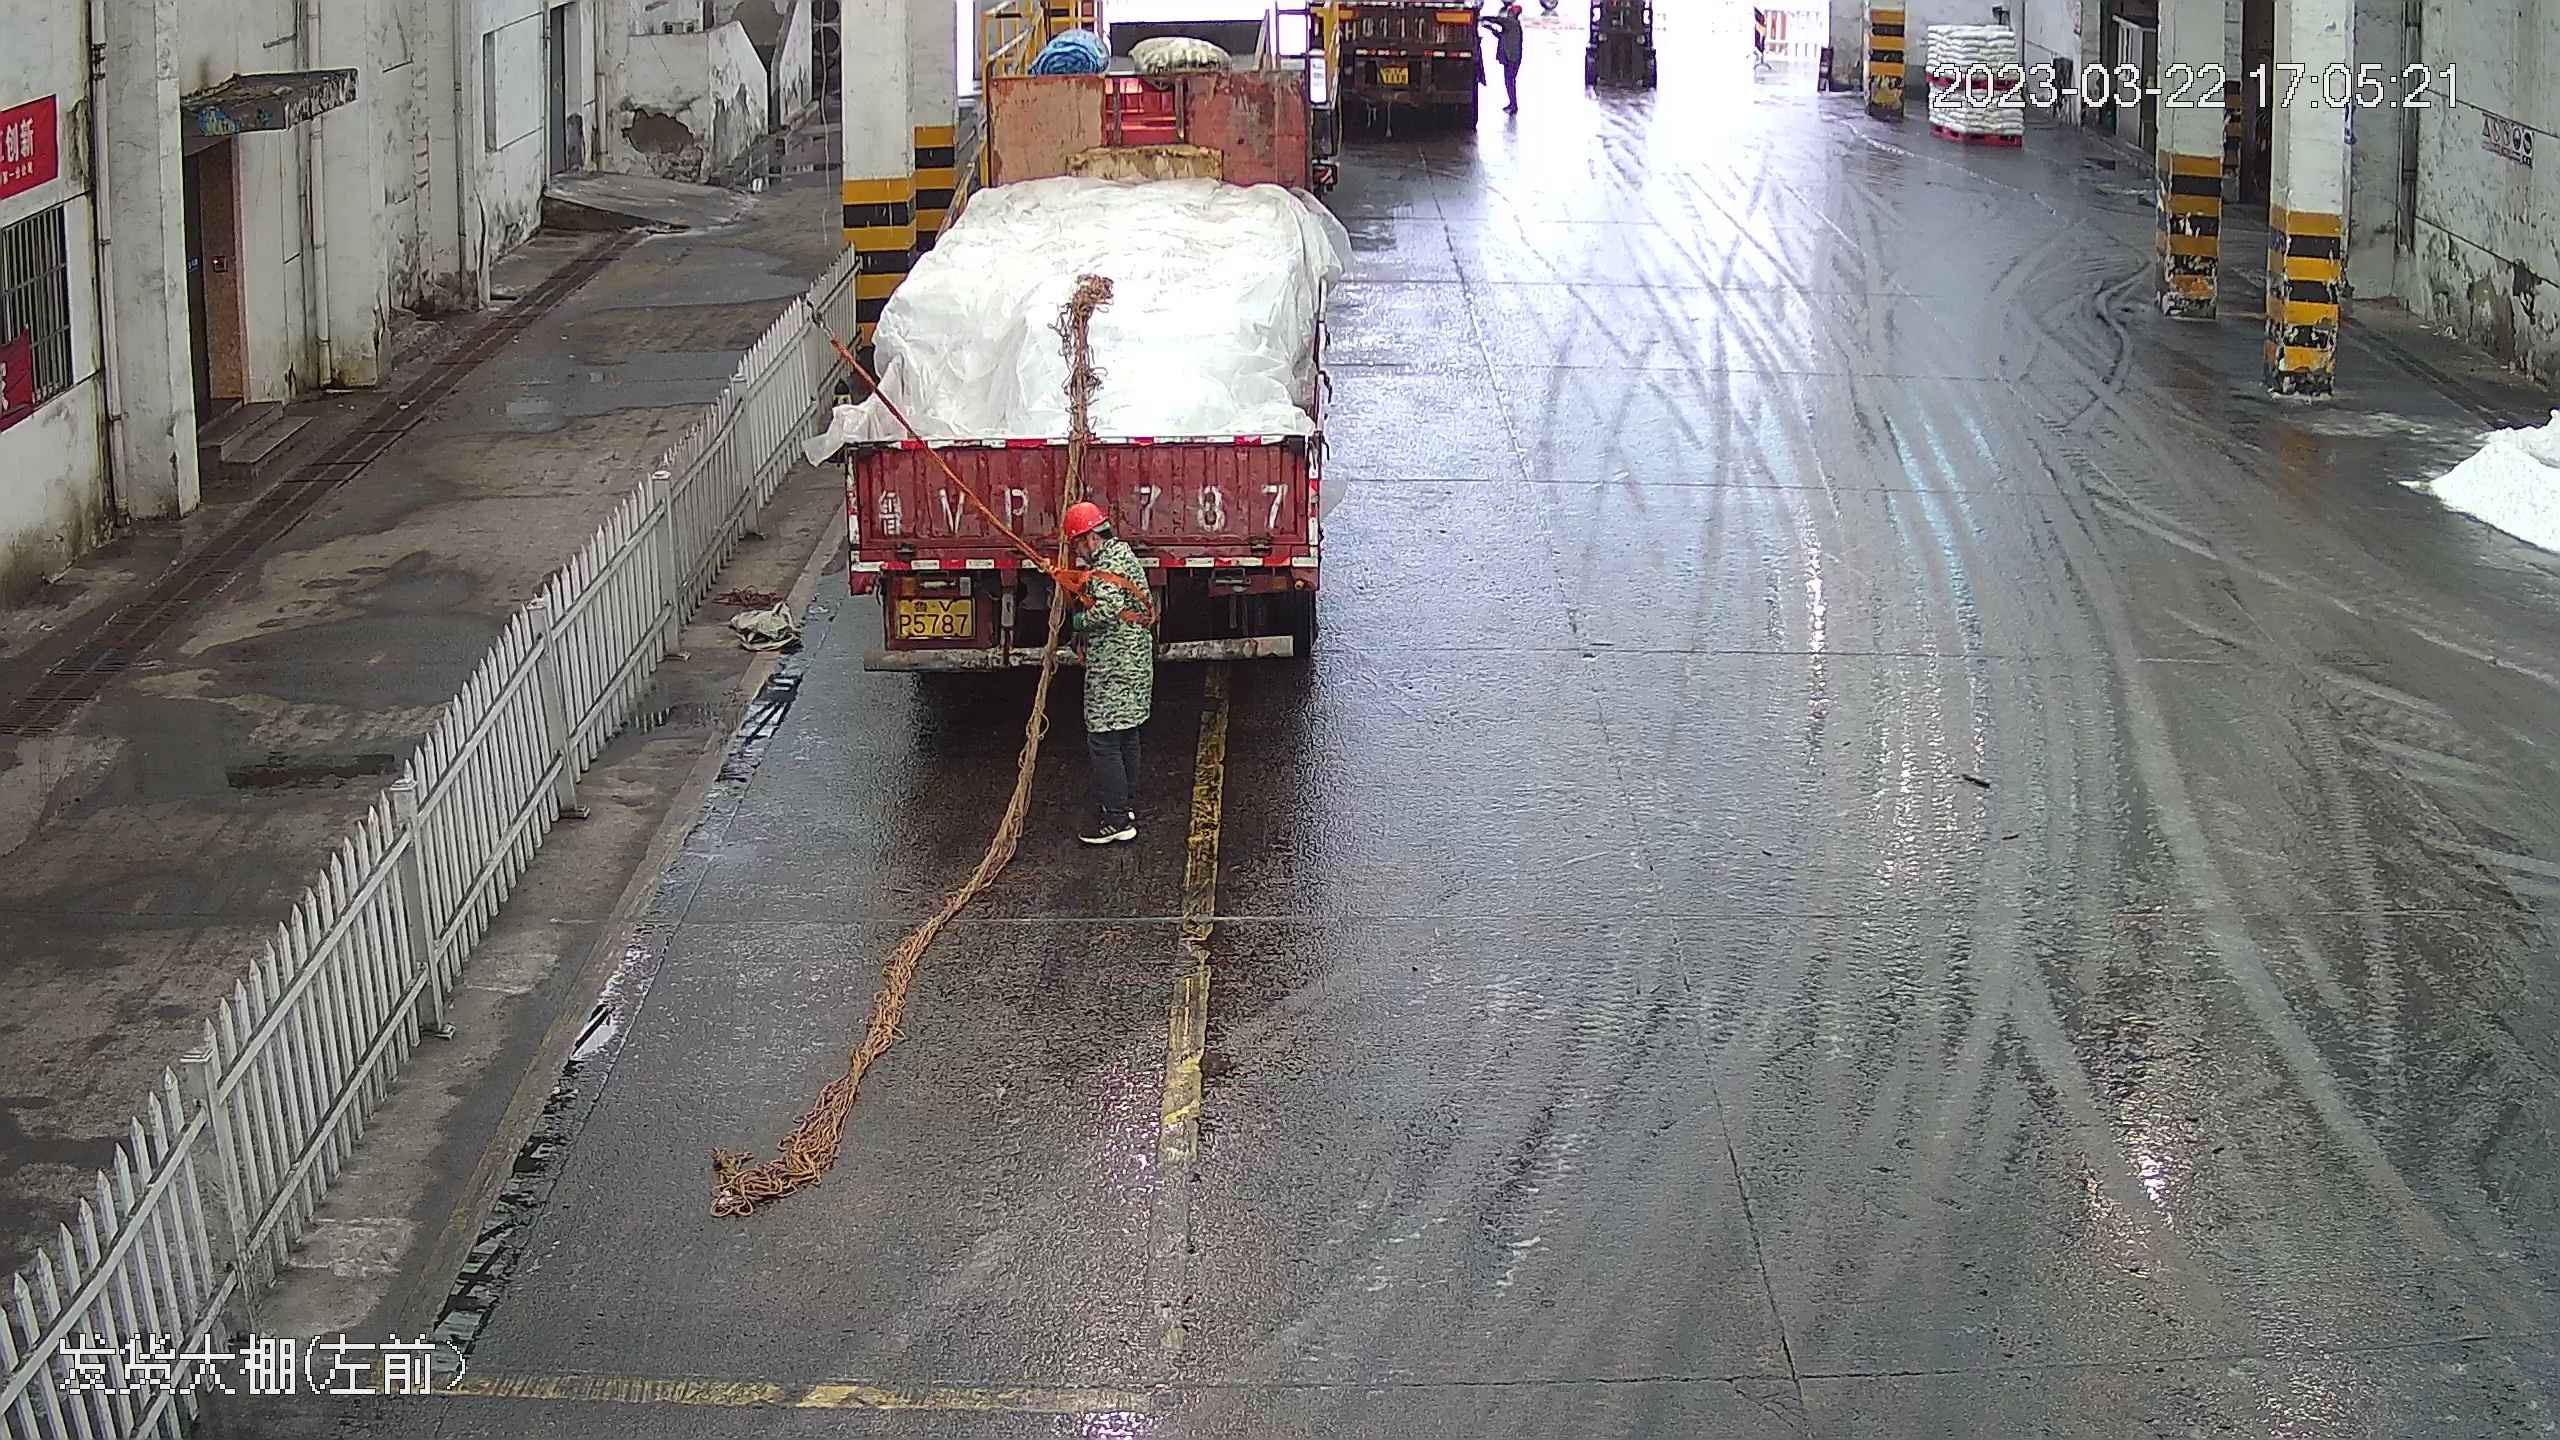belt: (1046, 553, 1153, 628)
head: (1047, 497, 1155, 617)
helmet: (1062, 496, 1110, 537)
people: (1041, 496, 1159, 866), (1495, 8, 1528, 109)
truck: (824, 8, 1356, 675)
